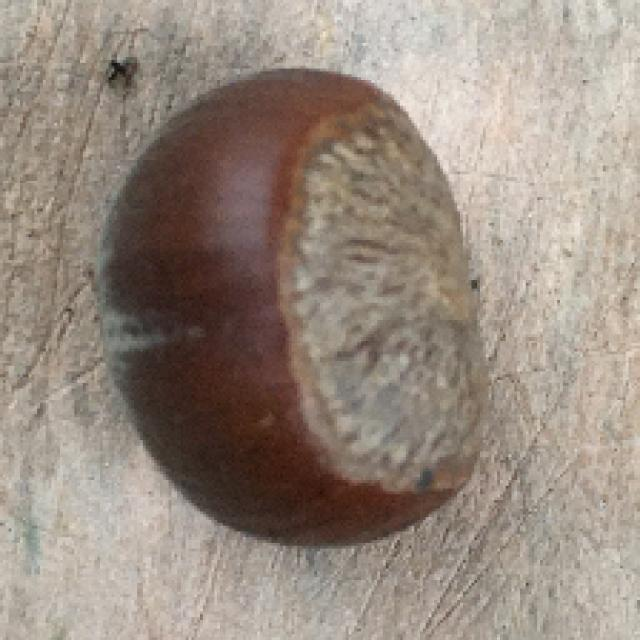qualityHazelnut: (101, 62, 498, 559)
